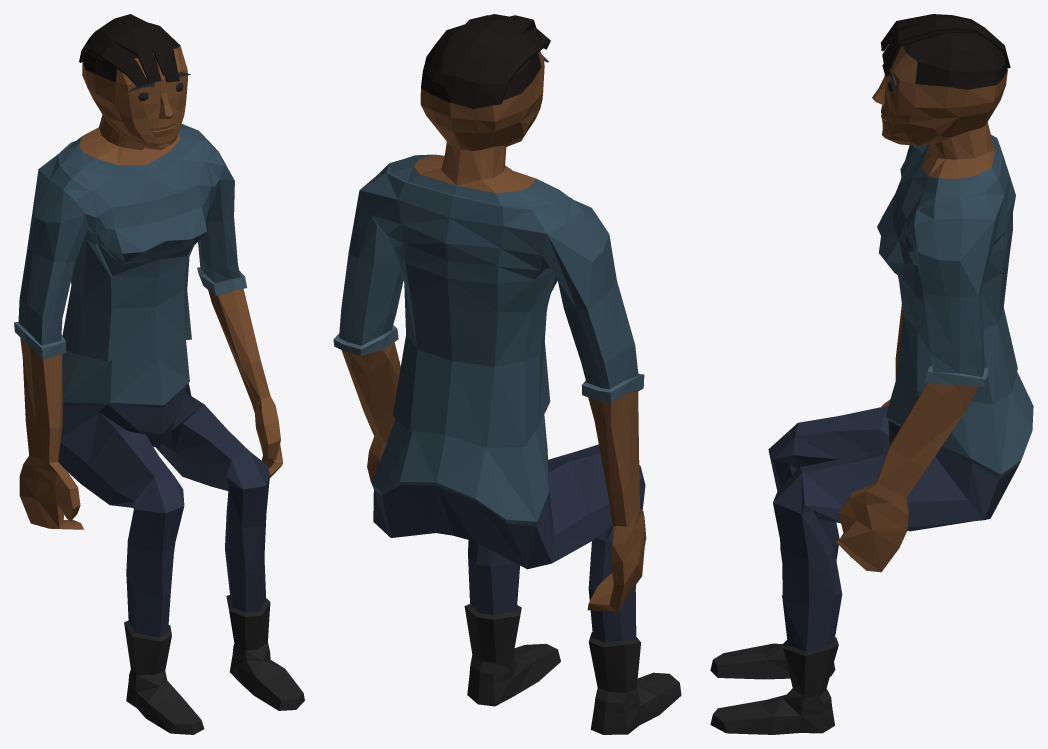
Rendered from cg_woman_2.glb.
The picture shows the model from 3 angles, left to right: view 1: azimuth 30°, elevation 25°; view 2: azimuth 150°, elevation 25°; view 3: azimuth 270°, elevation 25°; orthographic projection. The views are drawn at different scales.
Size of the model in its own units: 1.49 by 3.82 by 1.65.
